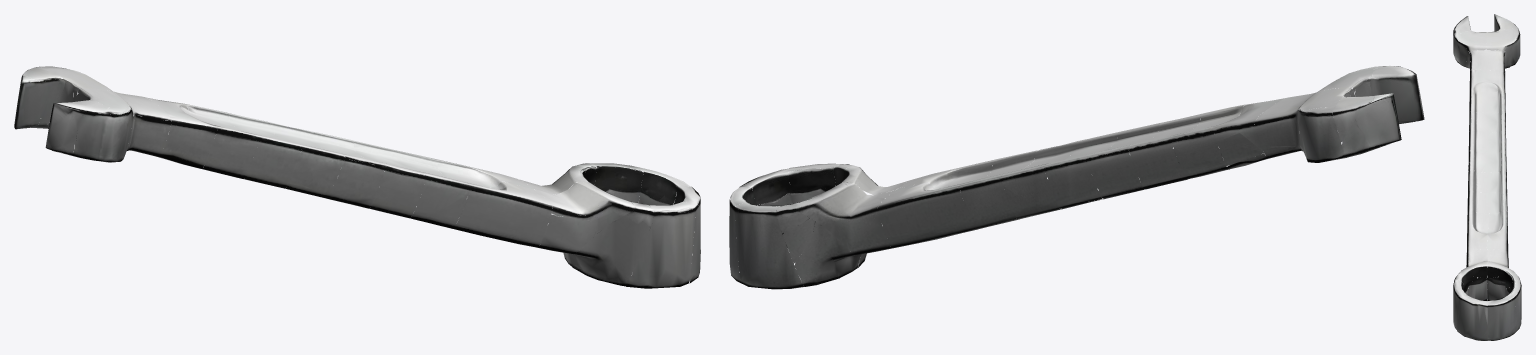
File: robot.glb
3 renders of one model, left to right at view 1: azimuth 30°, elevation 25°; view 2: azimuth 150°, elevation 25°; view 3: azimuth 270°, elevation 25°, orthographic. The views are drawn at different scales.
Parts seen in each view (by area): view 1: tripo_node_46a68458-9015-4ad3-afb8-9fb23c4e23c5; view 2: tripo_node_46a68458-9015-4ad3-afb8-9fb23c4e23c5; view 3: tripo_node_46a68458-9015-4ad3-afb8-9fb23c4e23c5.
Part boxes in pixels (x1=…): tripo_node_46a68458-9015-4ad3-afb8-9fb23c4e23c5: x1=14, y1=66, x2=700, y2=288; tripo_node_46a68458-9015-4ad3-afb8-9fb23c4e23c5: x1=729, y1=66, x2=1424, y2=289; tripo_node_46a68458-9015-4ad3-afb8-9fb23c4e23c5: x1=1453, y1=14, x2=1521, y2=340.
Size of the model in its own units: 0.9796 by 0.4647 by 0.1738.
Materials: 1 (1 with a texture image).
